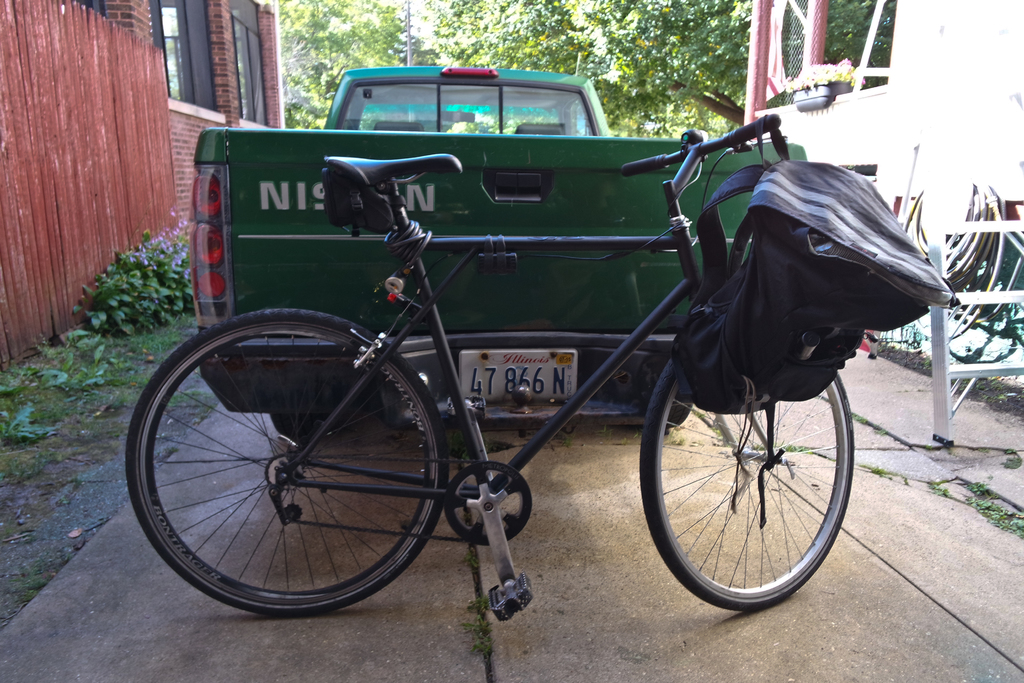Bike_away: (123, 119, 940, 615)
